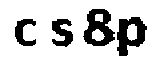8: (84, 5, 115, 50)
c: (11, 18, 39, 47)
p: (117, 14, 149, 59)
s: (49, 16, 77, 51)
